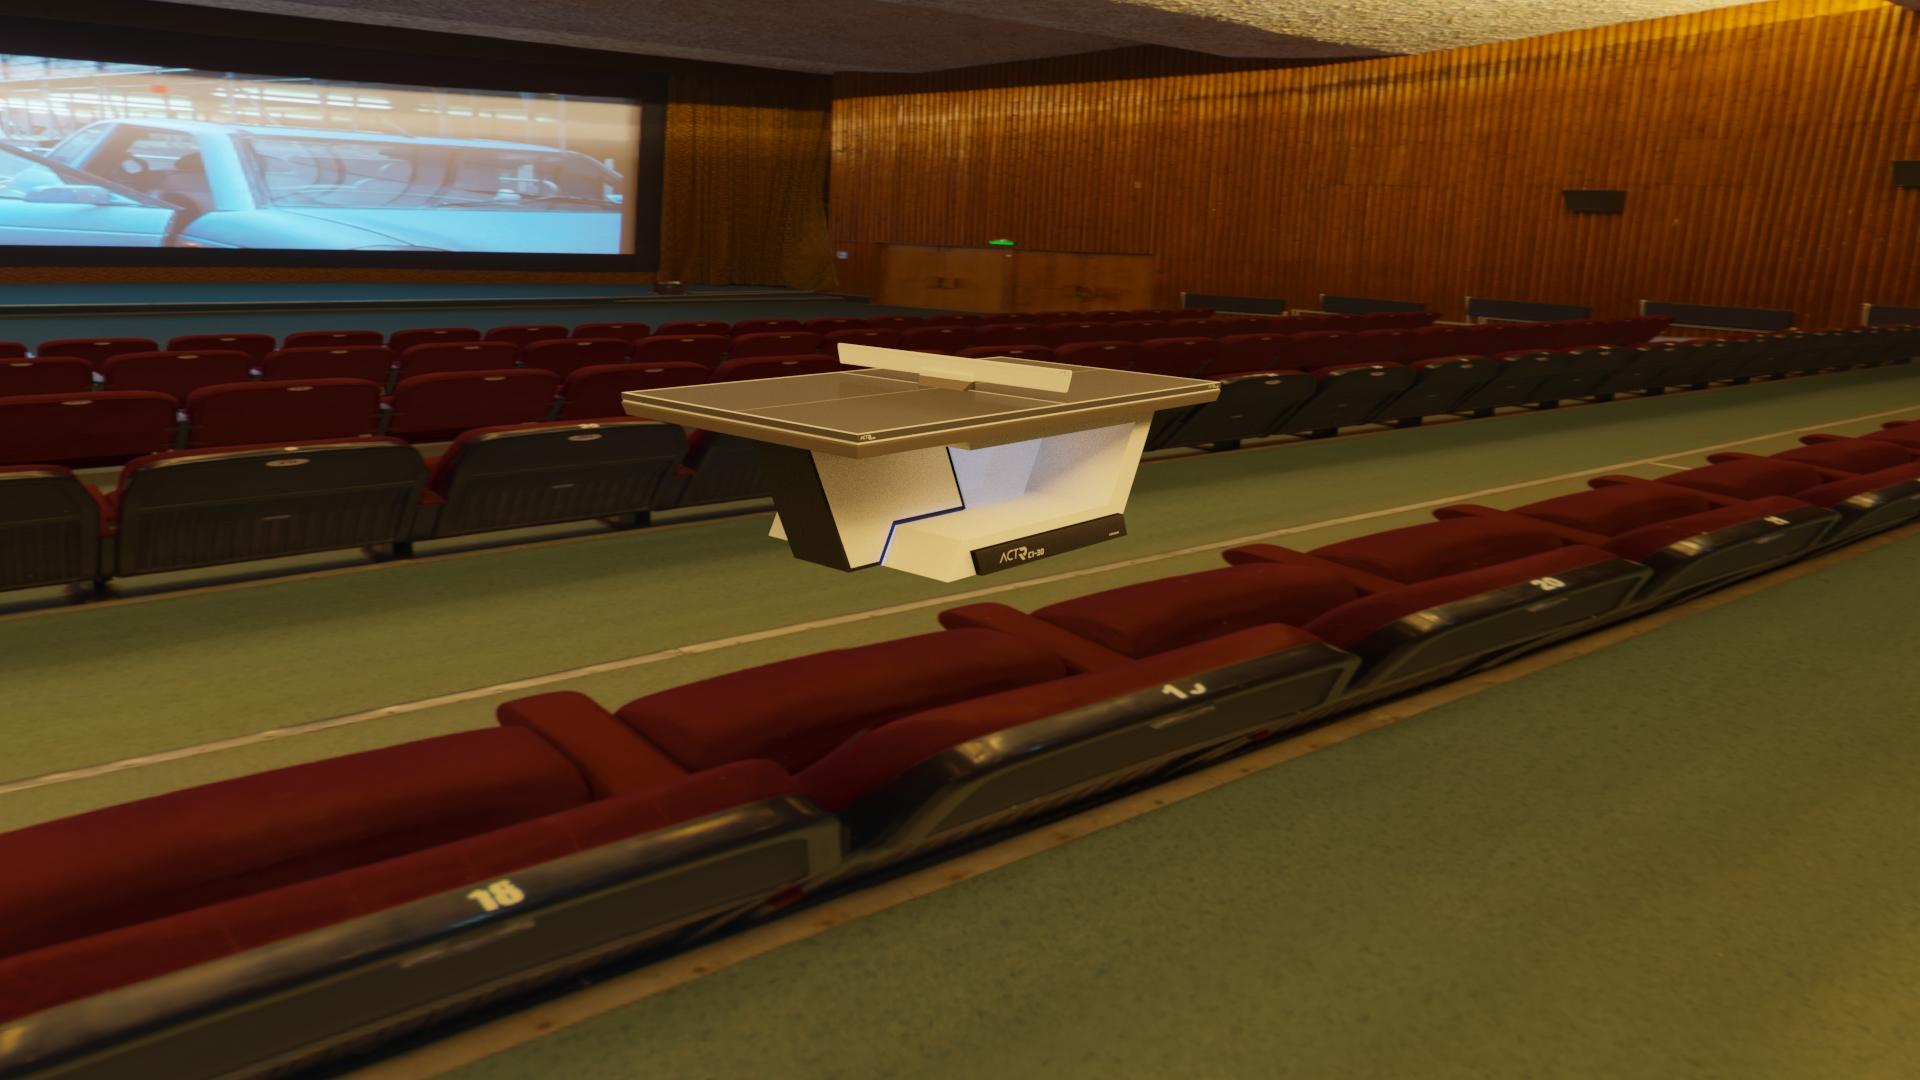table: (628, 357, 1216, 434)
